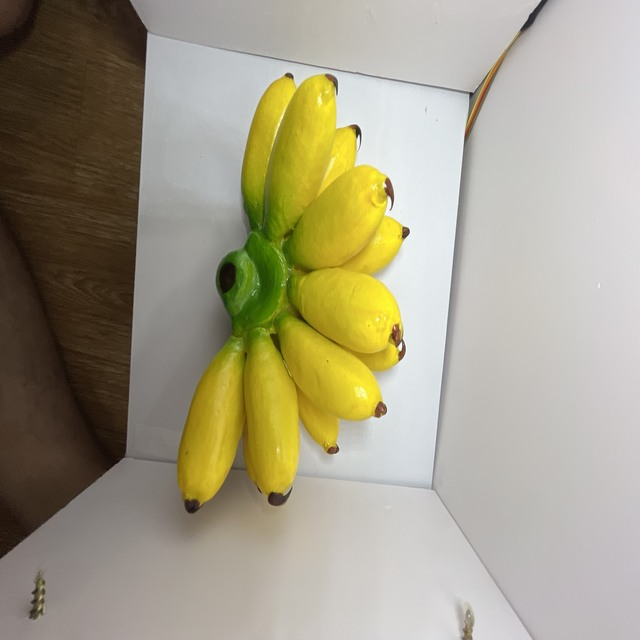Chuoi: (169, 68, 421, 521)
